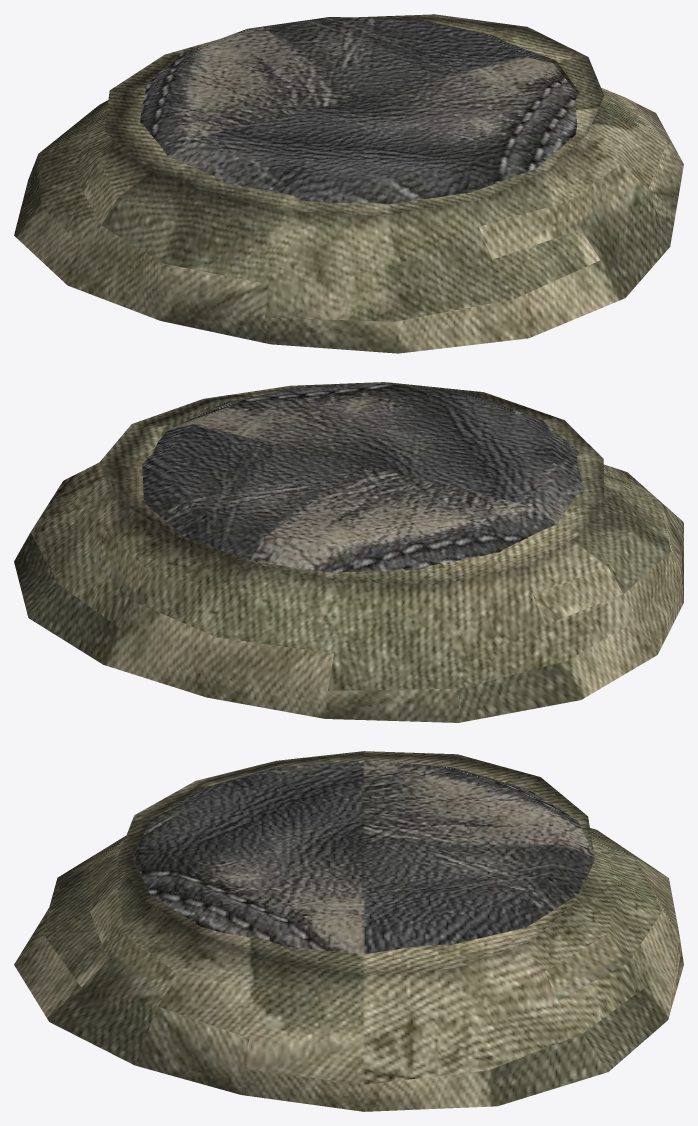
File: sleeve_t.glb
3 renders of one model, top to bottom at view 1: azimuth 30°, elevation 25°; view 2: azimuth 150°, elevation 25°; view 3: azimuth 270°, elevation 25°, orthographic. The views are drawn at different scales.
Visible parts, largest first — view 1: sleeve, gauntlet; view 2: sleeve, gauntlet; view 3: sleeve, gauntlet.
Part boxes in pixels (x1=…): sleeve: x1=14, y1=14, x2=683, y2=353; gauntlet: x1=139, y1=17, x2=578, y2=204; sleeve: x1=14, y1=382, x2=683, y2=722; gauntlet: x1=142, y1=383, x2=583, y2=572; sleeve: x1=14, y1=751, x2=683, y2=1111; gauntlet: x1=133, y1=760, x2=595, y2=954.
Bounding box in the file's own units: 5.34 × 1.01 × 5.1.
Materials: 2 (2 with a texture image).
